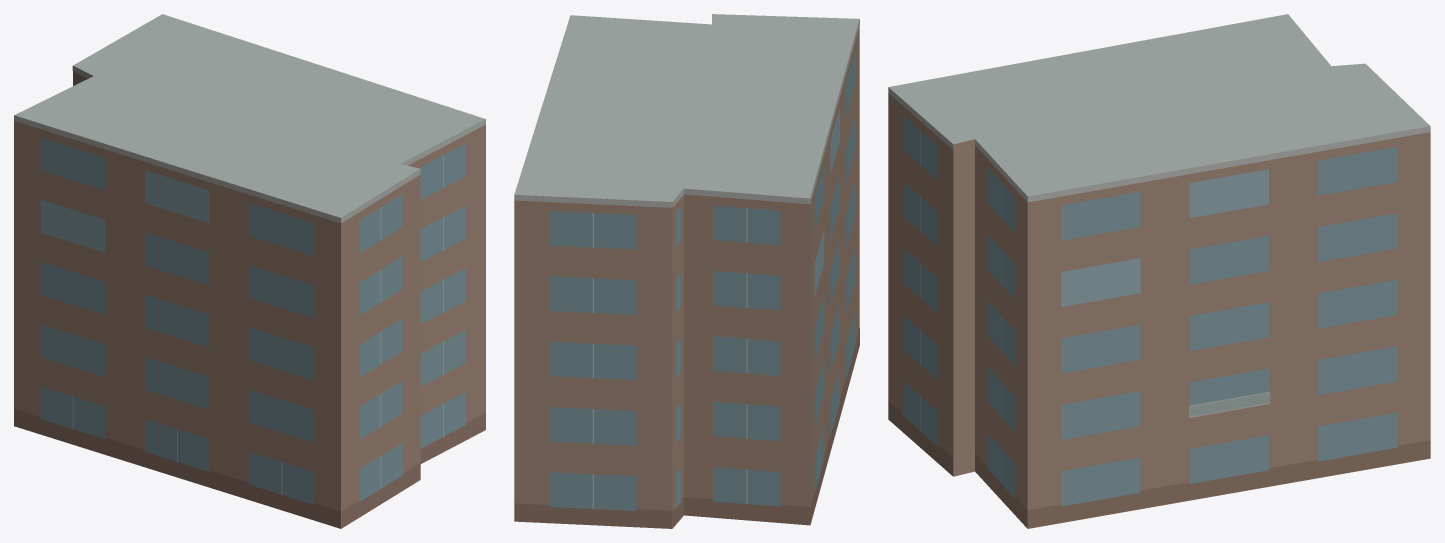
File: survey-upis-32601462.glb
The picture shows the model from 3 angles, left to right: view 1: azimuth 30°, elevation 25°; view 2: azimuth 150°, elevation 25°; view 3: azimuth 270°, elevation 25°; orthographic projection. The views are drawn at different scales.
Parts seen in each view (by area): view 1: survey-upis-32601462.tmp; view 2: survey-upis-32601462.tmp; view 3: survey-upis-32601462.tmp.
Boxes of the visible parts, x1,y1,x2,y2 form: survey-upis-32601462.tmp: (14, 14, 485, 528); survey-upis-32601462.tmp: (514, 14, 859, 528); survey-upis-32601462.tmp: (888, 14, 1430, 528).
Size of the model in its own units: 16.22 by 13.76 by 20.36.
